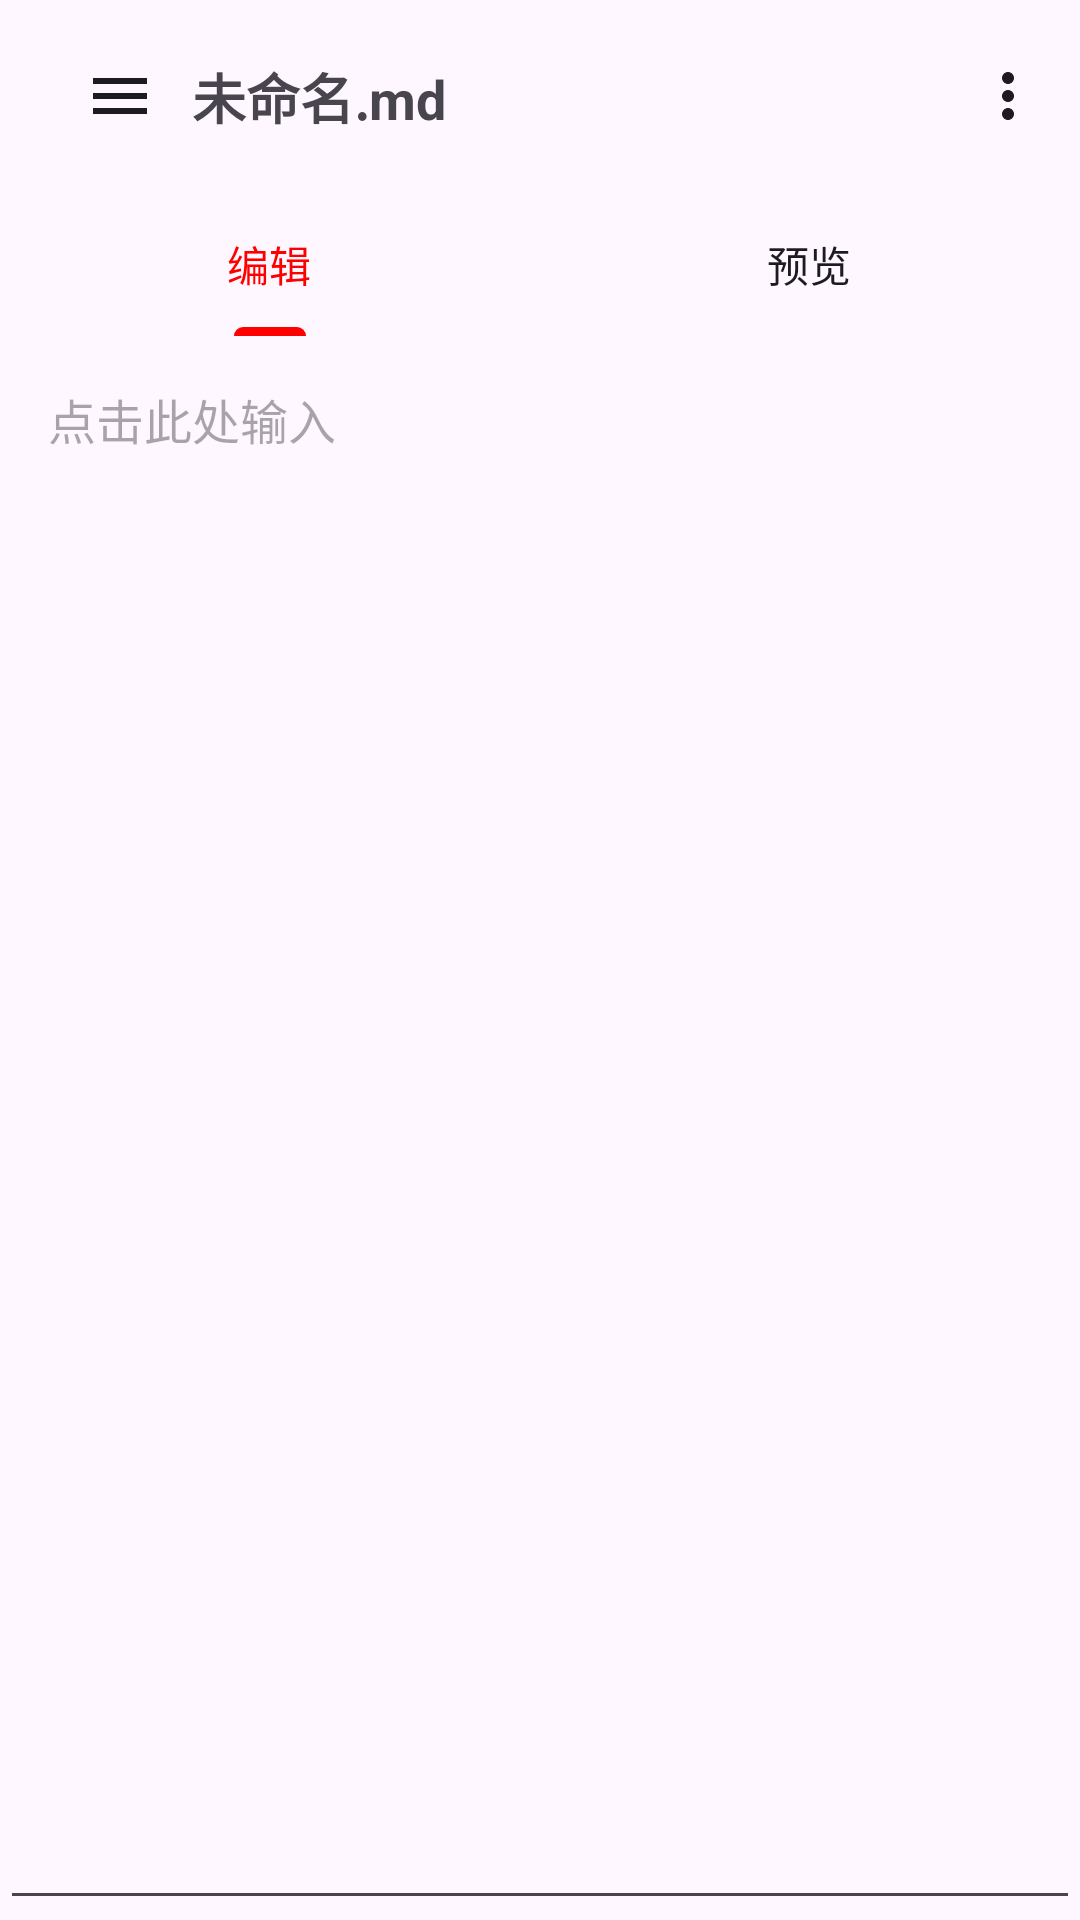

Locate icon controls on the screen. Image size 1080 x 1920, boxes as (x1, y1, x2, y2).
menu: (93, 78, 147, 114)
more: (1002, 72, 1014, 120)
